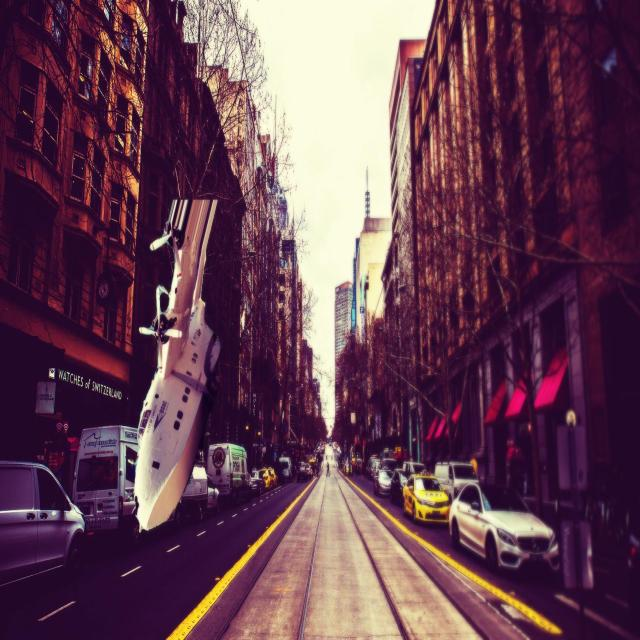airplane: (132, 195, 222, 534)
